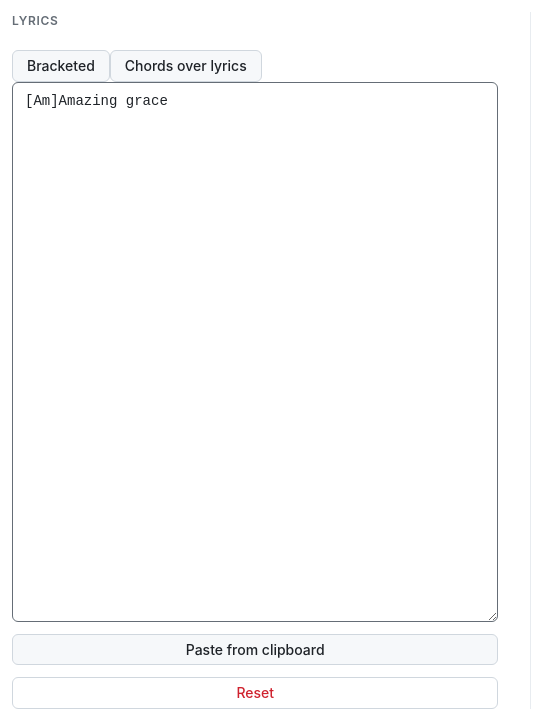
it: SongTextInput › format toggle › switching back to bracketed shows bracketed value
The width and height of the screenshot is (548, 726).
Click the button "Chords over lyrics".
click(186, 66)  # box [110,50,262,82]
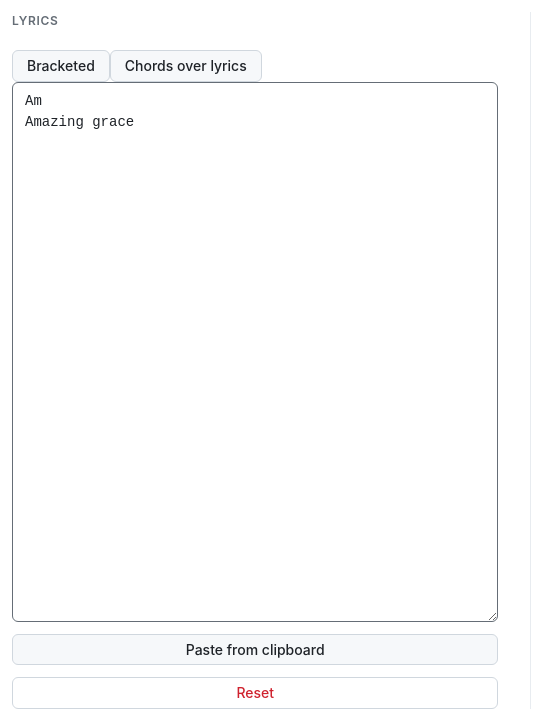
Click the button "Bracketed".
click(61, 66)  # box [12,50,110,82]
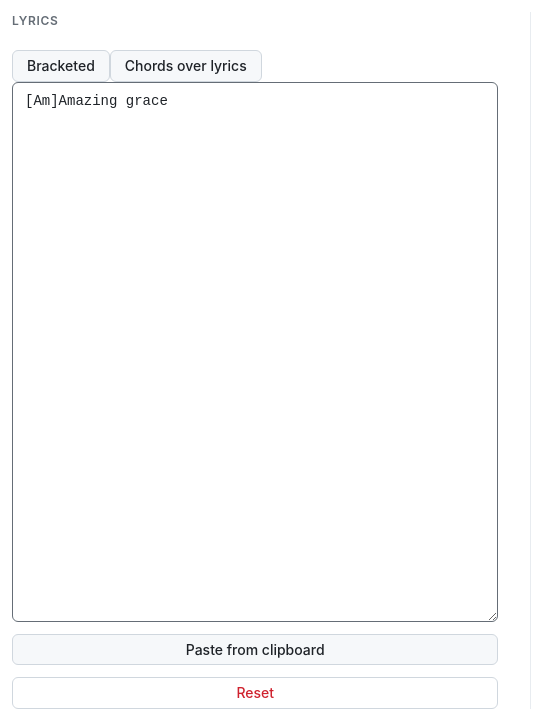
Result: the text box with placeholder "Paste or type your song lyrics here…" holds "[Am]Amazing grace"
